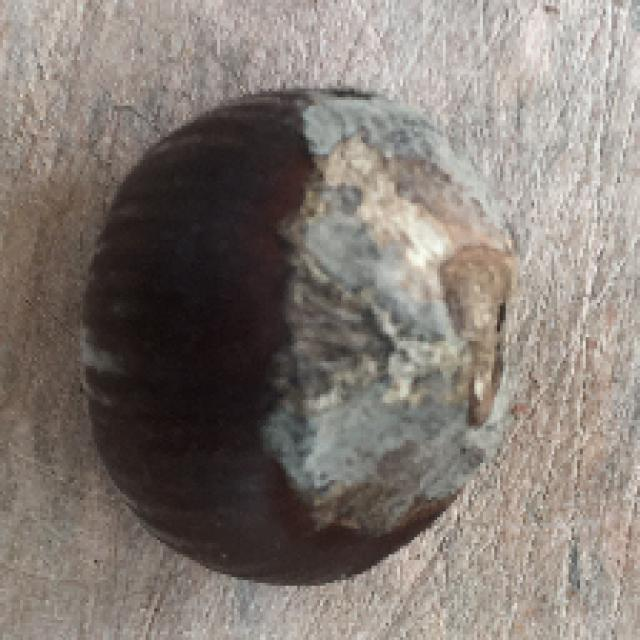damagedHazelnut: (61, 81, 545, 594)
